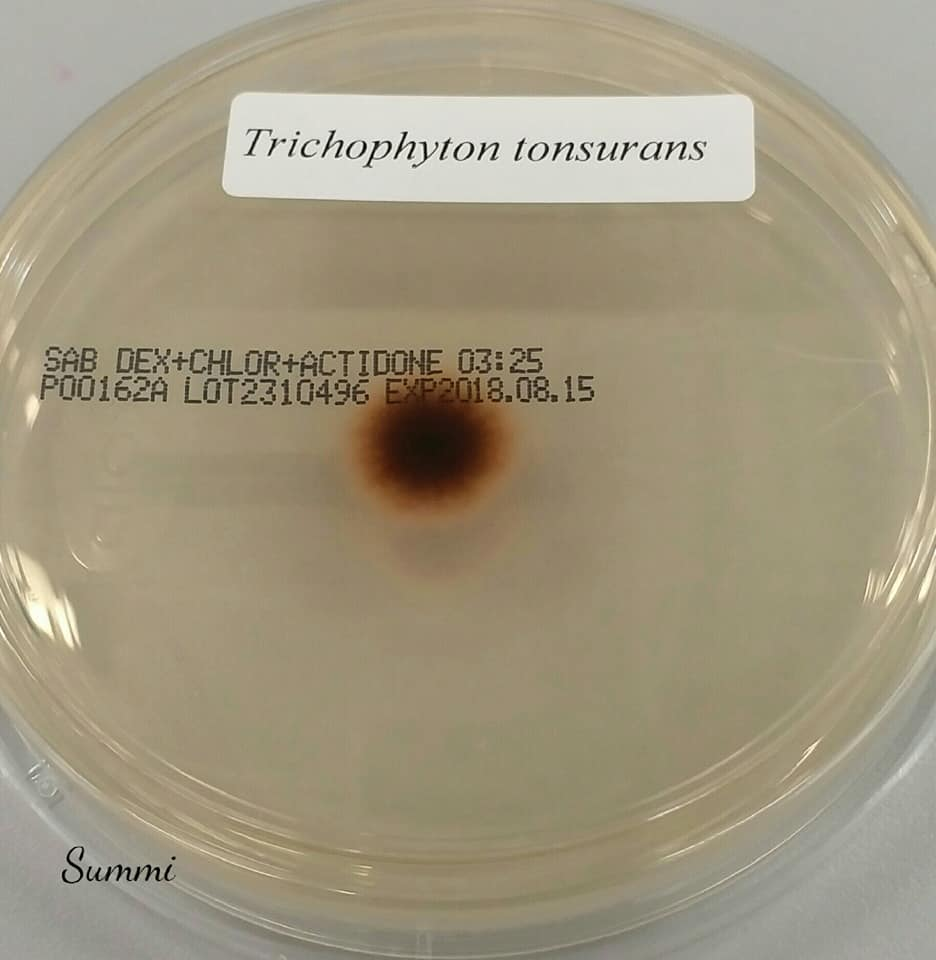Trichophyton: (360, 393, 502, 498)
